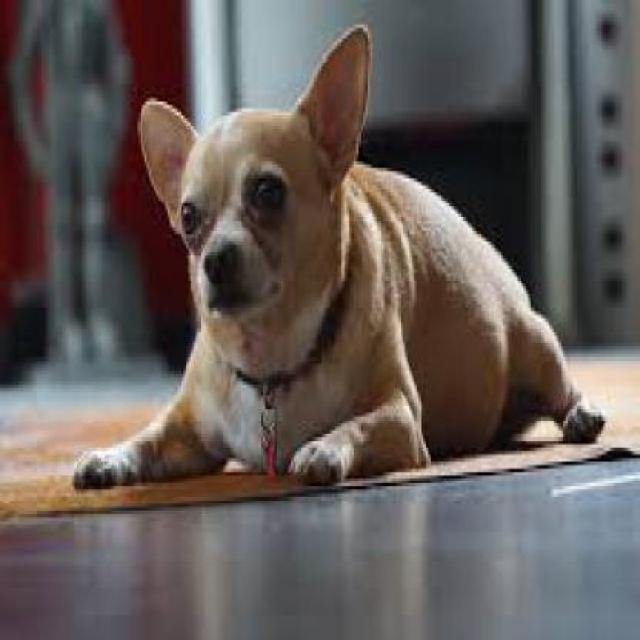Dog: (70, 23, 608, 495)
